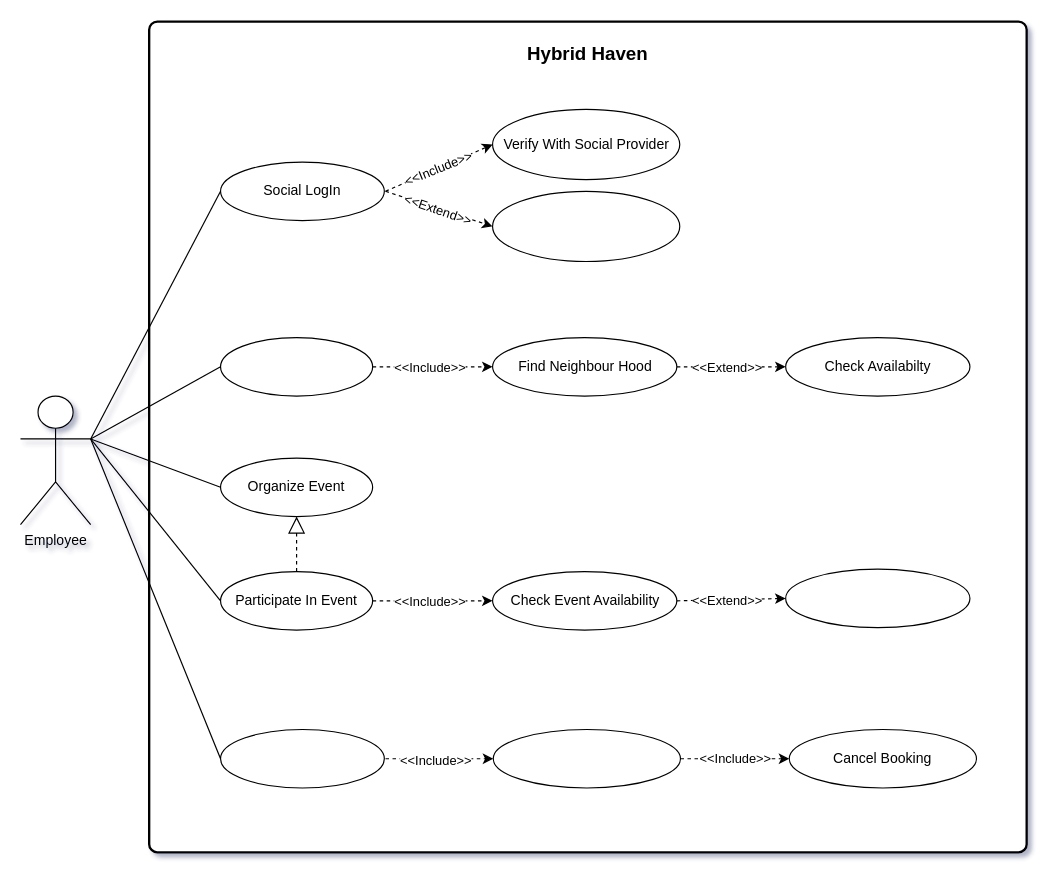
Some shapes in this 1055 by 880 pixel diagram are drawn without their labels. The shapes that lost their labels are listed below. From the top down, each one's centre as x and y in pixels, then its label:
(585,225): Unable To Verify Social Account
(296,366): Book A Desk
(877,598): Event Expired Or Not
(301,758): Set Vacation
(586,758): Lookup For Weekend / Booking
